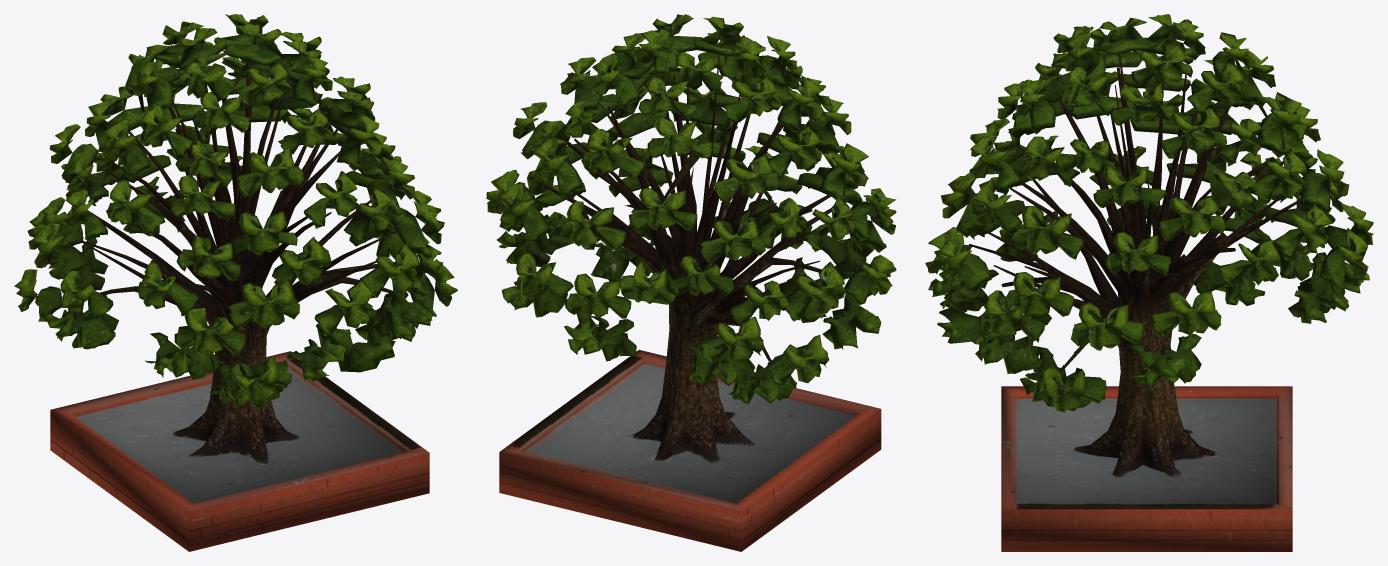
Rendered from tripo_convert_85cfe665-a367-4a5e-9fb5-f06ffb30950a.fbx.
The picture shows the model from 3 angles, left to right: view 1: azimuth 30°, elevation 25°; view 2: azimuth 150°, elevation 25°; view 3: azimuth 270°, elevation 25°; orthographic projection. The views are drawn at different scales.
Parts seen in each view (by area): view 1: tripo_node_85cfe665; view 2: tripo_node_85cfe665; view 3: tripo_node_85cfe665.
Part boxes in pixels (<box>): tripo_node_85cfe665: <box>14,14,457,551</box>; tripo_node_85cfe665: <box>486,14,896,551</box>; tripo_node_85cfe665: <box>925,14,1373,551</box>.
Bounding box in the file's own units: 0.8926 × 0.998 × 0.8965.
1 material, 1 textured.
